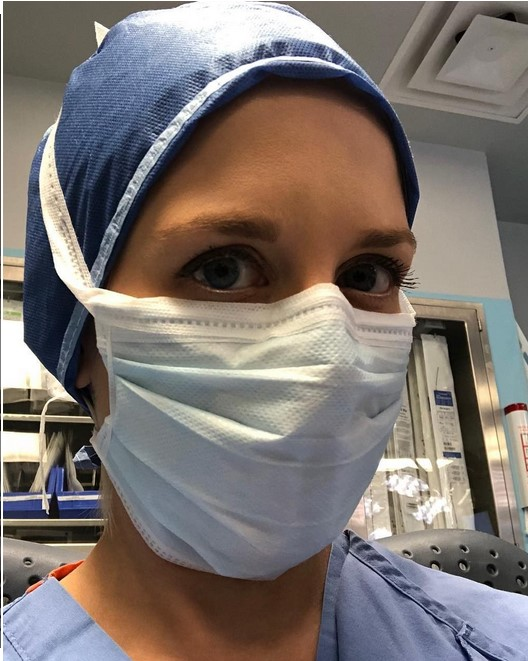face_with_mask: (29, 5, 422, 582)
